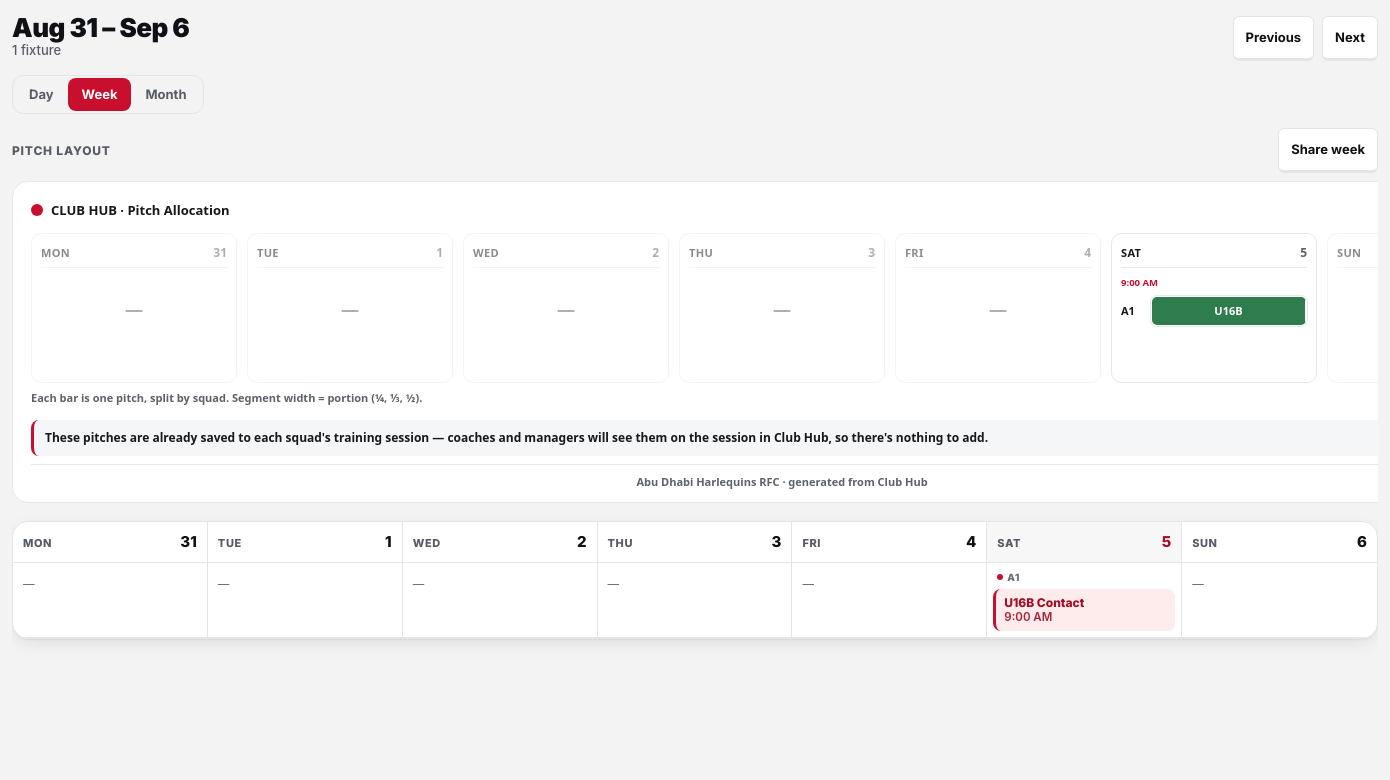
Test case: the screen › draws a booking on its pitch
Click the tab "Day".
click(41, 95)  # box [15,78,68,111]
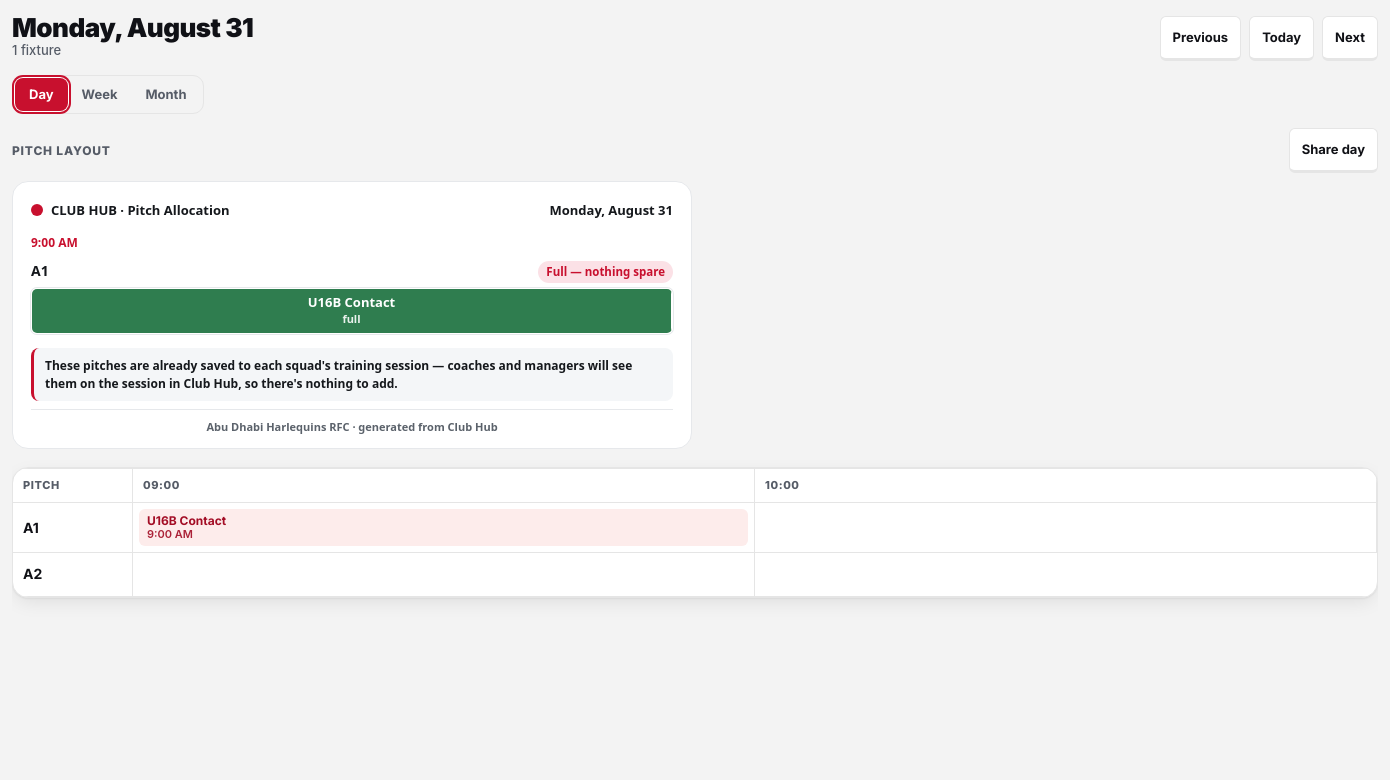
expect the button with test id "booking" shows "U16B Contact": met, box [139,509,748,546]
expect the element with test id "allocation-grid" is shown: met, box [13,468,1377,597]
